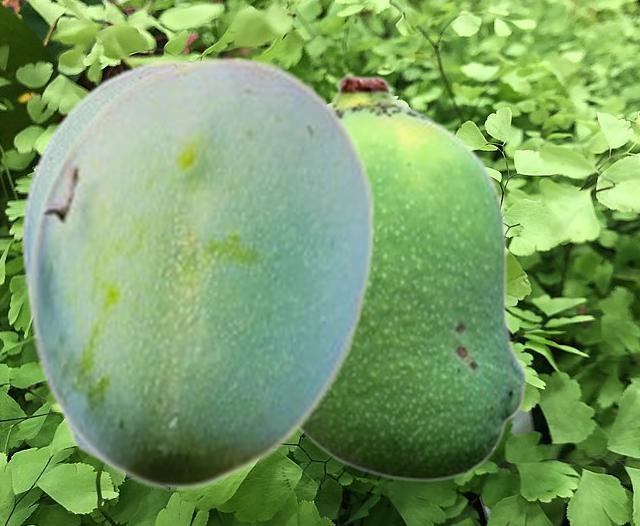green_mango: (26, 55, 375, 489), (299, 74, 527, 482), (19, 57, 198, 476)
